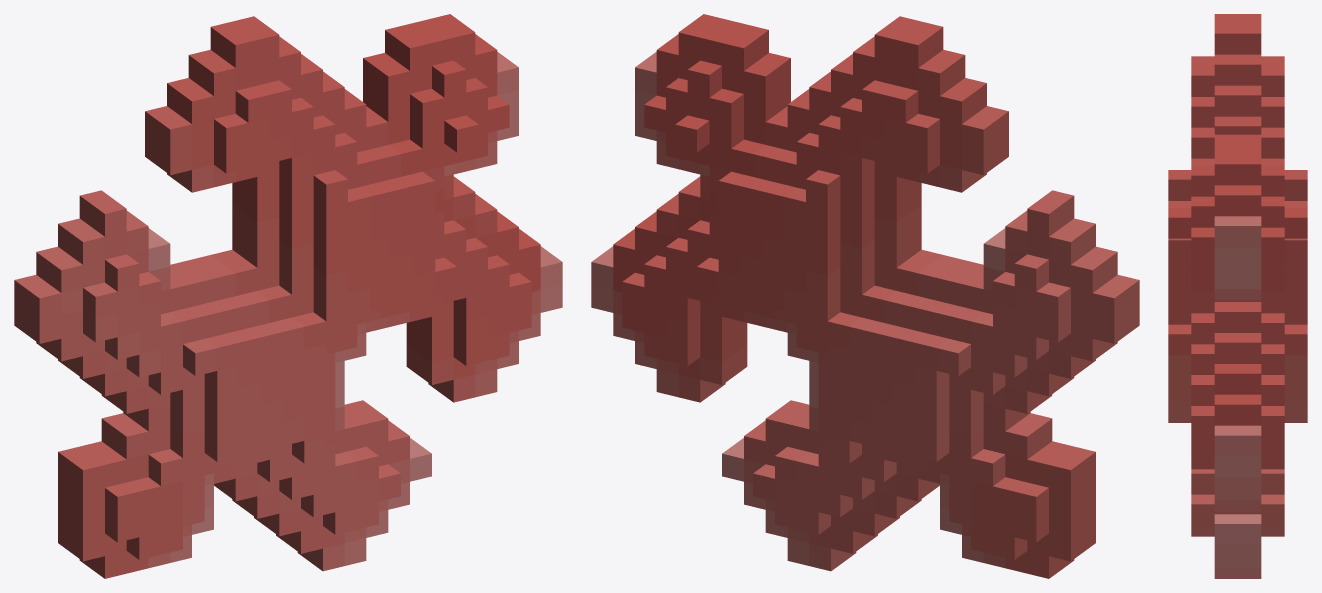
The model's file is puzzle-red.glb.
3 renders of one model, left to right at view 1: azimuth 30°, elevation 25°; view 2: azimuth 150°, elevation 25°; view 3: azimuth 270°, elevation 25°, orthographic. The views are drawn at different scales.
Parts seen in each view (by area): view 1: prop; view 2: prop; view 3: prop.
Boxes of the visible parts, x1,y1,x2,y2 form: prop: (14,14,562,578); prop: (591,14,1139,578); prop: (1168,14,1307,578).
Size of the model in its own units: 16 by 16 by 4.
